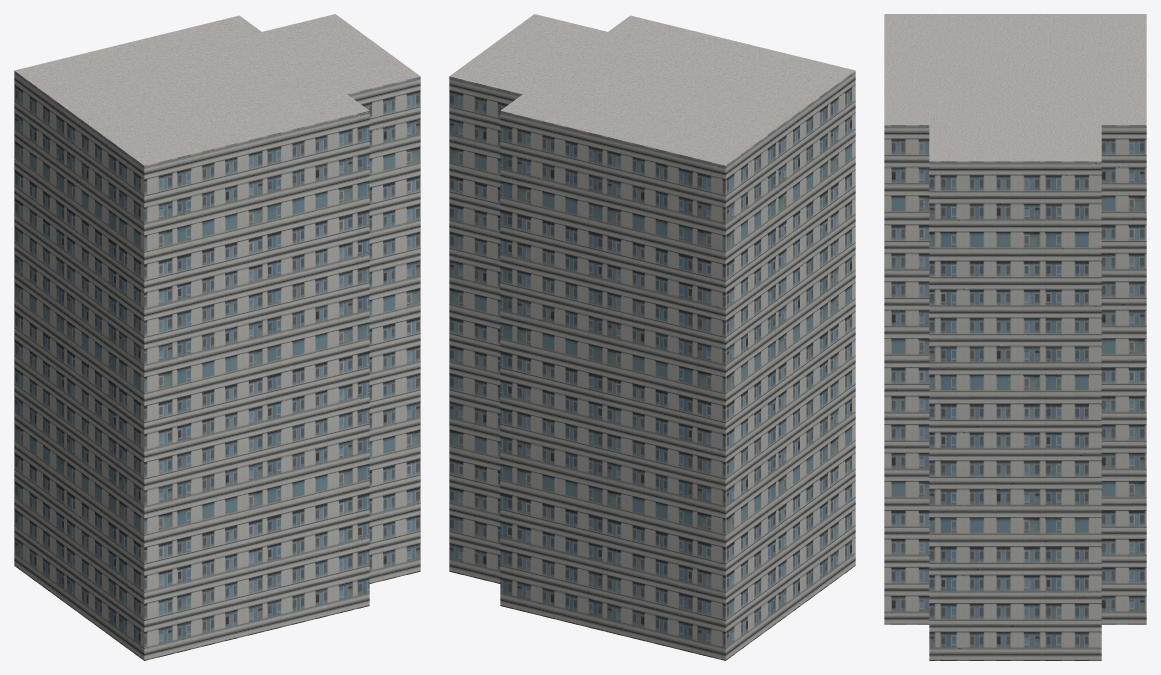
The model's file is building_006_001.glb.
3 renders of one model, left to right at view 1: azimuth 30°, elevation 25°; view 2: azimuth 150°, elevation 25°; view 3: azimuth 270°, elevation 25°, orthographic.
Visible parts, largest first — view 1: building_006.001; view 2: building_006.001; view 3: building_006.001.
Boxes of the visible parts, x1,y1,x2,y2 form: building_006.001: (14, 14, 420, 660); building_006.001: (449, 14, 855, 660); building_006.001: (884, 14, 1146, 660).
Size of the model in its own units: 1326 by 2100 by 1000.
Materials: 2 (2 with a texture image).
